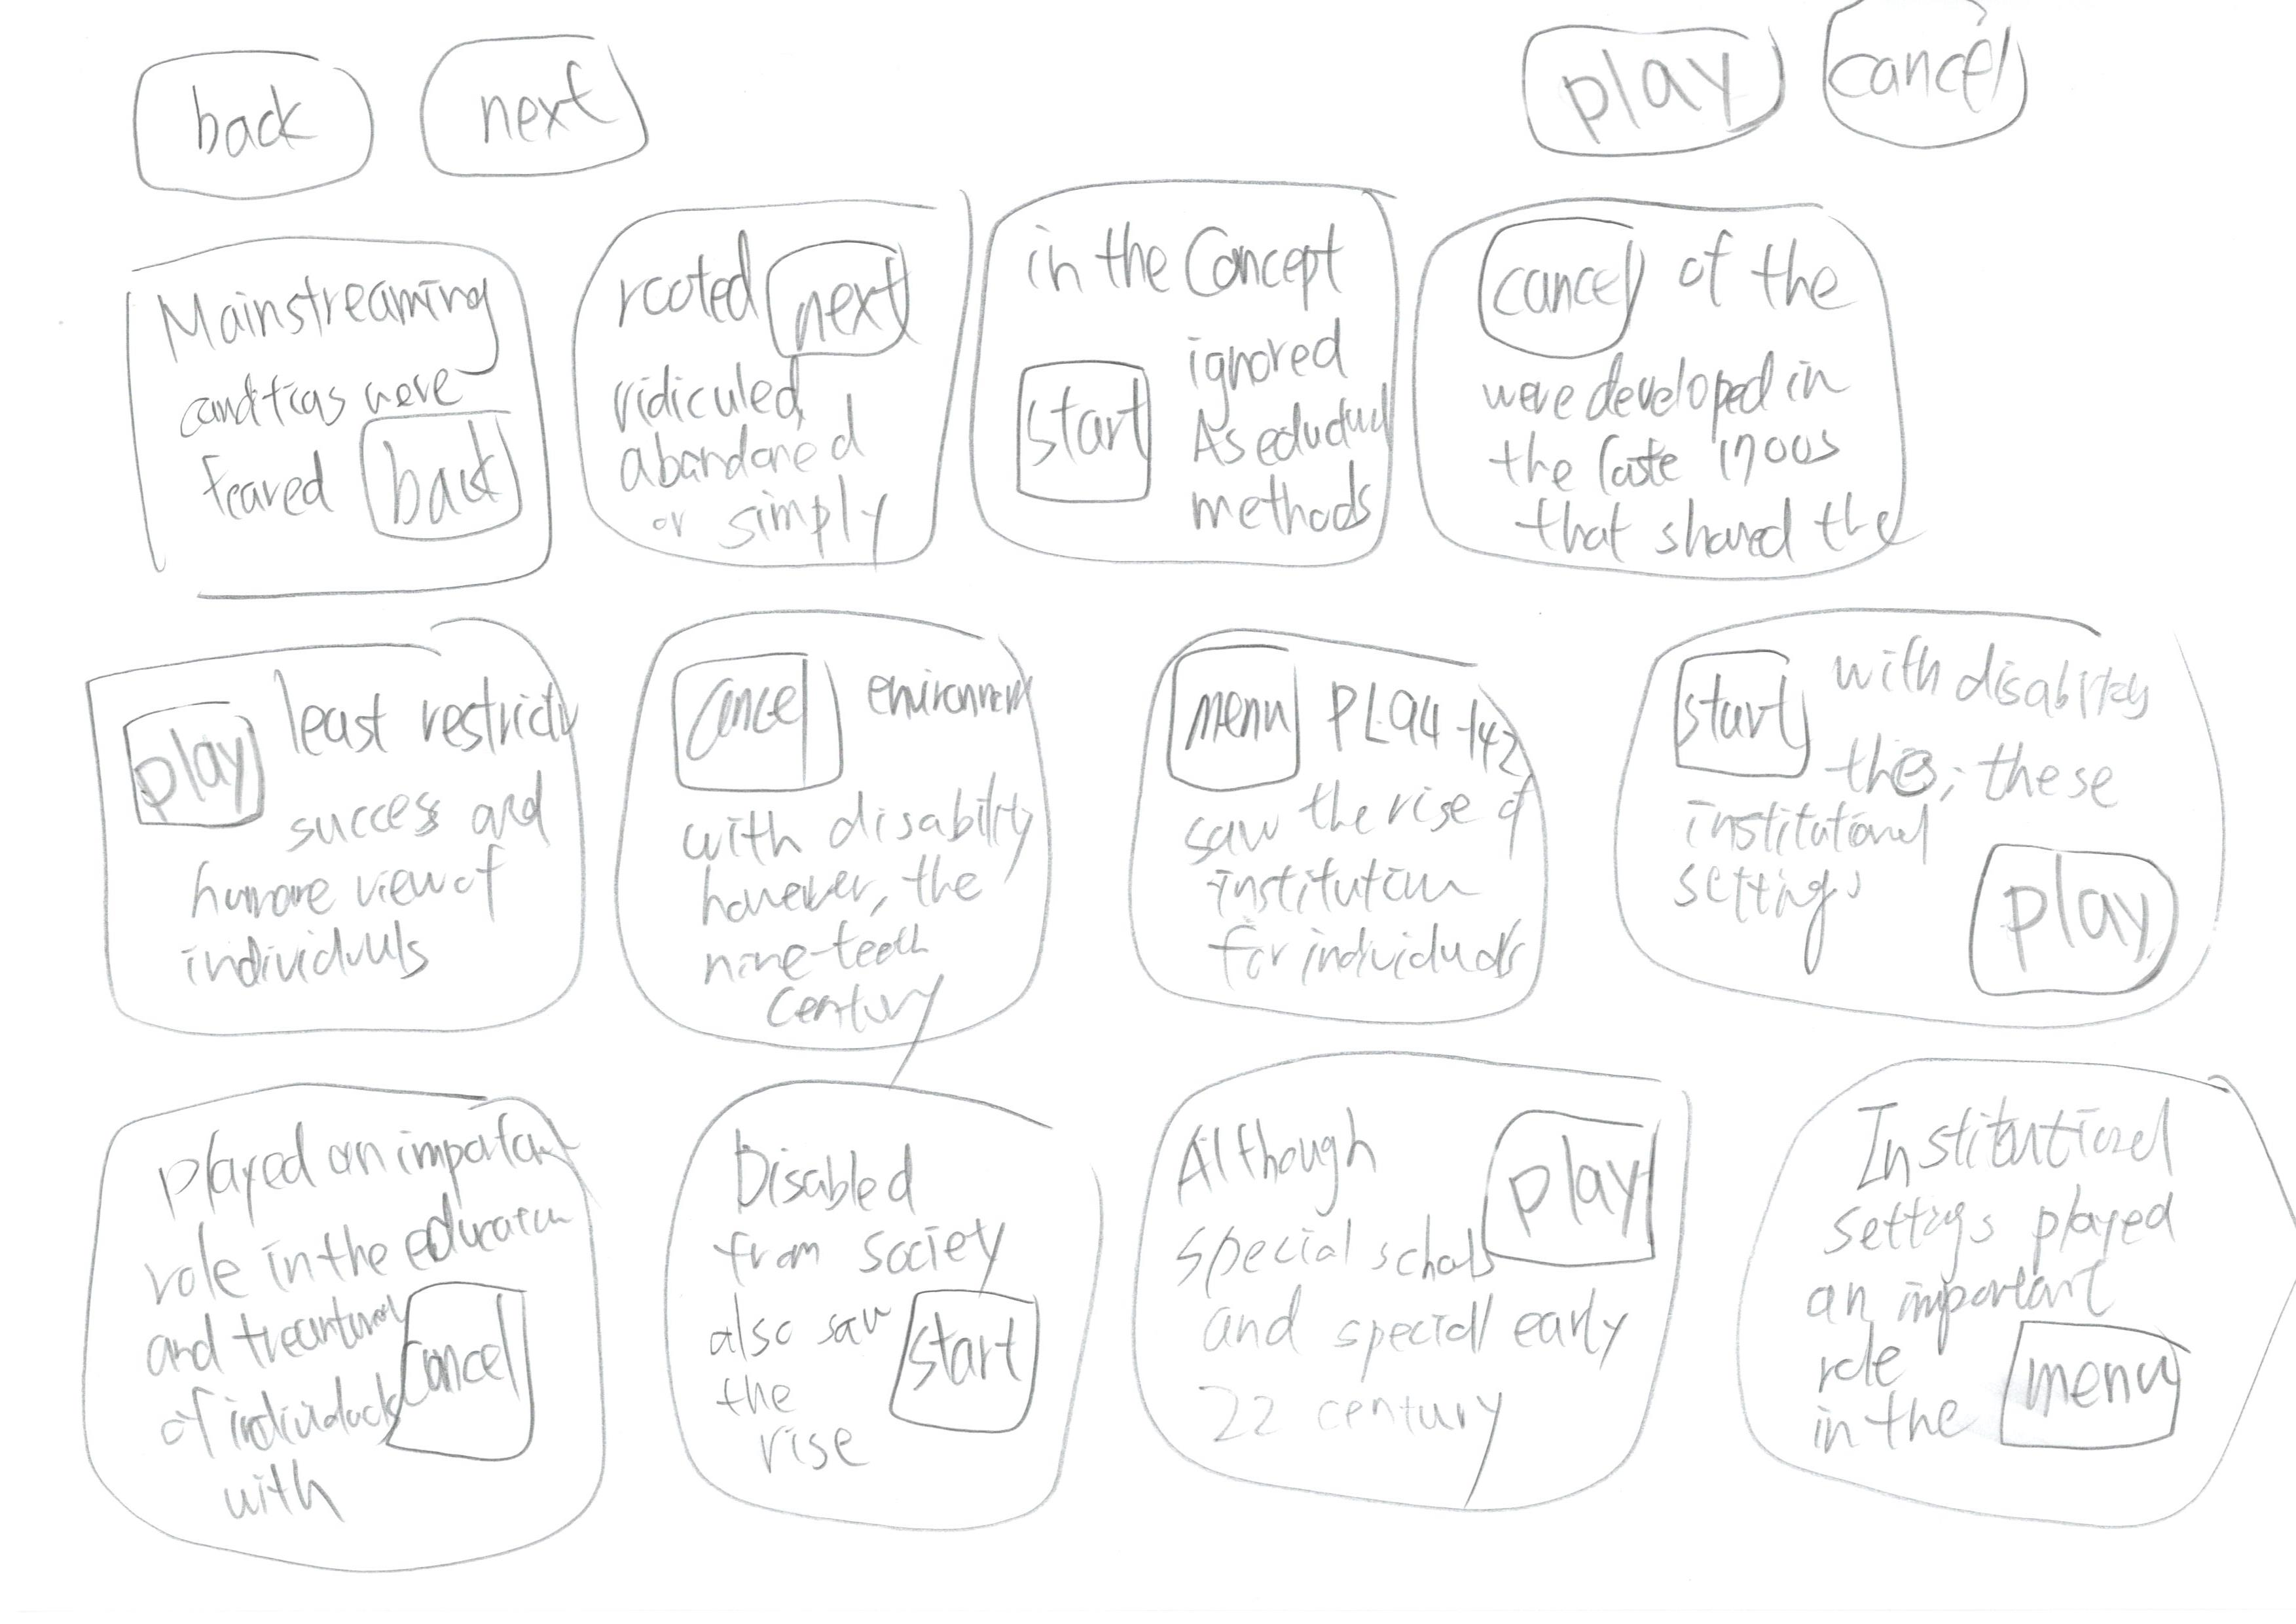back: (113, 33, 406, 218), (345, 402, 557, 568)
cancel: (1809, 2, 2162, 204), (1496, 16, 1802, 170), (378, 1267, 564, 1482), (650, 640, 863, 810), (1463, 197, 1675, 360)
menu: (1967, 1306, 2213, 1468), (1146, 640, 1324, 814)
next: (408, 23, 691, 185)
play: (1442, 1088, 1677, 1276), (100, 668, 271, 845)
quadruple: (1115, 1026, 1725, 1562), (1591, 585, 2275, 1053), (40, 1060, 628, 1598), (1735, 1042, 2296, 1596), (628, 1048, 1125, 1571), (30, 605, 596, 1056), (1399, 169, 1964, 596), (1079, 576, 1573, 1056), (594, 592, 1088, 1070), (77, 218, 571, 605), (554, 186, 1011, 592), (953, 169, 1410, 575)
row: (0, 1042, 2296, 1612), (0, 165, 2296, 622), (0, 582, 2296, 1037), (35, 2, 2296, 195)
small-title: (1849, 640, 2166, 812), (149, 1139, 554, 1272), (700, 1120, 1004, 1267), (1016, 197, 1352, 316), (169, 272, 505, 364), (1856, 1088, 2185, 1181), (1146, 1088, 1375, 1209), (297, 659, 549, 763), (1322, 677, 1515, 780), (605, 241, 759, 341), (1681, 241, 1858, 318), (849, 668, 1020, 712)
start: (993, 341, 1185, 515), (872, 1274, 1055, 1445), (1638, 638, 1827, 791)
text: (1210, 1234, 1614, 1461), (1479, 341, 1881, 554), (686, 789, 976, 1028), (1188, 786, 1508, 990), (153, 1313, 390, 1536), (621, 374, 914, 543), (287, 787, 552, 965), (190, 849, 508, 997), (1654, 796, 1934, 963), (686, 1301, 872, 1490), (1204, 350, 1371, 547), (1827, 1207, 2176, 1294), (1811, 1251, 1950, 1462), (179, 388, 339, 550)
